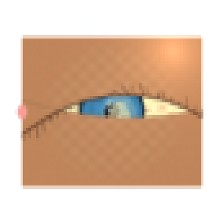corneal_ulcer: (90, 97, 150, 145)
